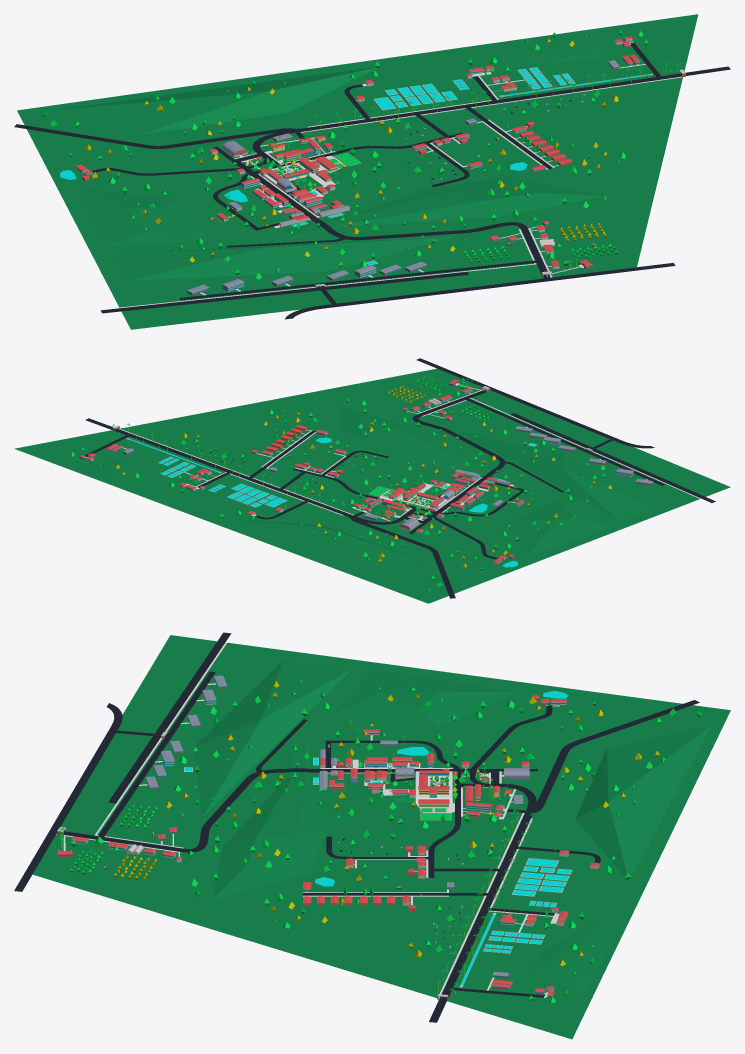
File: cmbn.glb
The picture shows the model from 3 angles, top to bottom: view 1: azimuth 30°, elevation 25°; view 2: azimuth 150°, elevation 25°; view 3: azimuth 270°, elevation 25°; orthographic projection. The views are drawn at different scales.
Visible parts, largest first — view 1: cmbnmetre.000_greenbase, cmbnmemou.002, cmbnmemou.003, cmbn_pav-002.005, cmbnmemou.001, cmbnmemou, cmbnmepav.024, cmbnmeroa, cmbnmeroa.041, cmbnmeroa.038, cmbnmeroa.037, cmbnmeroa.023 (+1 smaller); view 2: cmbnmetre.000_greenbase, cmbnmemou.002, cmbnmemou.003, cmbn_pav-002.005, cmbnmemou.001, cmbnmemou, cmbnmepav.024, cmbnmeroa, cmbnmeroa.041, cmbnmeroa.038, cmbnmeroa.037; view 3: cmbnmetre.000_greenbase, cmbnmemou.002, cmbnmemou.003, cmbn_pav-002.005, cmbnmemou.001, cmbnmemou, cmbnmepav.024, cmbnmeroa, cmbnmeroa.041, cmbnmeroa.038, cmbnmeroa.037.
Boxes of the visible parts, <box> form: cmbnmetre.000_greenbase: <box>17,14,698,329</box>; cmbnmemou.002: <box>52,66,380,134</box>; cmbnmemou.003: <box>110,236,454,281</box>; cmbn_pav-002.005: <box>233,176,603,243</box>; cmbnmemou.001: <box>78,188,208,246</box>; cmbnmemou: <box>422,30,608,63</box>; cmbnmepav.024: <box>259,156,396,204</box>; cmbnmeroa: <box>290,66,730,133</box>; cmbnmeroa.041: <box>100,271,468,313</box>; cmbnmeroa.038: <box>324,263,675,308</box>; cmbnmeroa.037: <box>179,260,535,300</box>; cmbnmeroa.023: <box>236,161,332,230</box>; cmbnmetre.000_greenbase: <box>14,368,730,603</box>; cmbnmemou.002: <box>219,518,417,593</box>; cmbnmemou.003: <box>459,431,655,521</box>; cmbn_pav-002.005: <box>338,405,555,491</box>; cmbnmemou.001: <box>506,500,610,556</box>; cmbnmemou: <box>74,459,187,510</box>; cmbnmepav.024: <box>379,471,455,510</box>; cmbnmeroa: <box>85,418,357,518</box>; cmbnmeroa.041: <box>510,413,715,502</box>; cmbnmeroa.038: <box>416,358,621,441</box>; cmbnmeroa.037: <box>466,398,664,485</box>; cmbnmetre.000_greenbase: <box>32,635,730,1039</box>; cmbnmemou.002: <box>575,725,711,881</box>; cmbnmemou.003: <box>194,660,352,817</box>; cmbn_pav-002.005: <box>212,724,326,900</box>; cmbnmemou.001: <box>331,669,519,727</box>; cmbnmemou: <box>528,904,628,994</box>; cmbnmepav.024: <box>347,771,454,827</box>; cmbnmeroa: <box>429,809,534,1022</box>; cmbnmeroa.041: <box>108,632,231,803</box>; cmbnmeroa.038: <box>14,726,119,891</box>; cmbnmeroa.037: <box>98,671,215,836</box>.
Bounding box in the file's own units: 18.22 × 0.4236 × 13.56.
